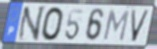5: (64, 8, 85, 42)
6: (84, 8, 105, 43)
M: (101, 9, 131, 42)
N: (16, 5, 48, 42)
O: (40, 6, 65, 43)
V: (130, 9, 151, 44)
